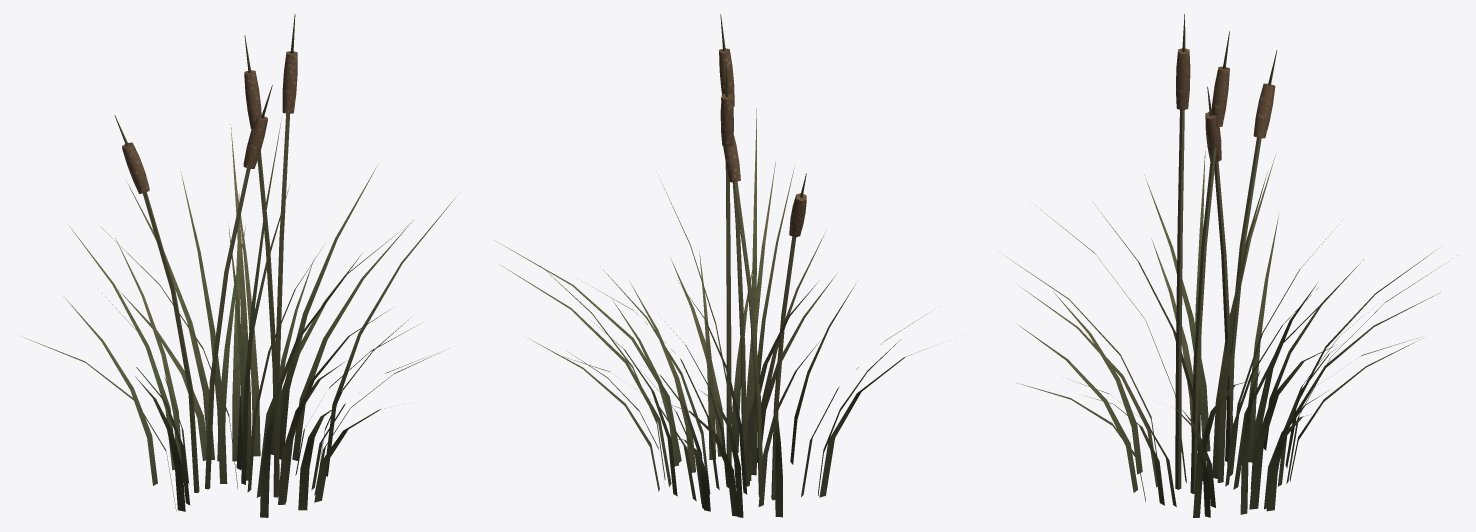
Rendered from fm_reeds_cattail_a.glb.
3 renders of one model, left to right at view 1: azimuth 30°, elevation 25°; view 2: azimuth 150°, elevation 25°; view 3: azimuth 270°, elevation 25°, orthographic. The views are drawn at different scales.
Visible parts, largest first — view 1: fm_reeds_cattail_a; view 2: fm_reeds_cattail_a; view 3: fm_reeds_cattail_a.
Part boxes in pixels (bbox=[...]): fm_reeds_cattail_a: bbox=[21, 14, 455, 517]; fm_reeds_cattail_a: bbox=[494, 14, 924, 517]; fm_reeds_cattail_a: bbox=[1005, 14, 1445, 517].
Size of the model in its own units: 1.62 by 1.55 by 1.34.
Materials: 1 (1 with a texture image).
